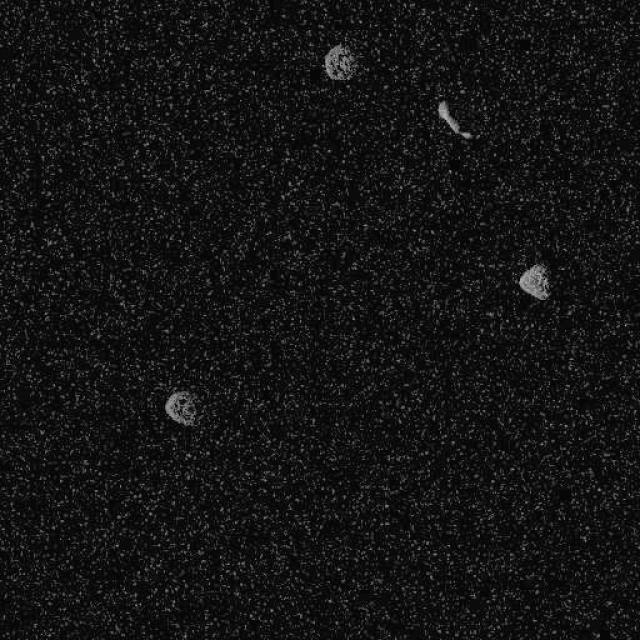D2: (322, 42, 358, 82), (437, 99, 472, 140), (518, 261, 552, 300), (164, 389, 198, 426)
